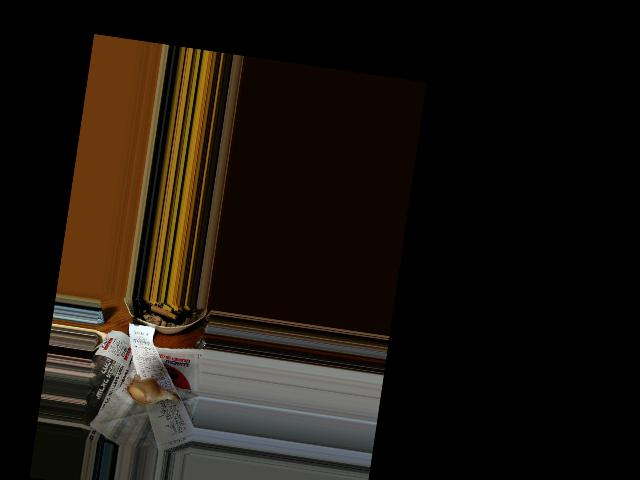onion: (125, 374, 176, 409)
